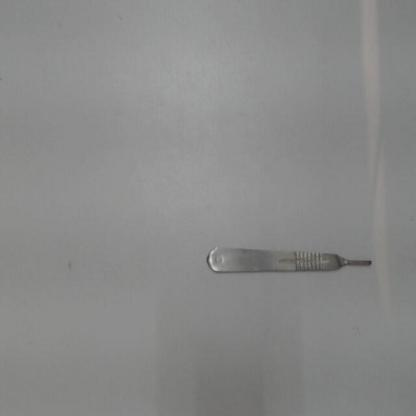No.3 BP Handle: (198, 239, 376, 284)
